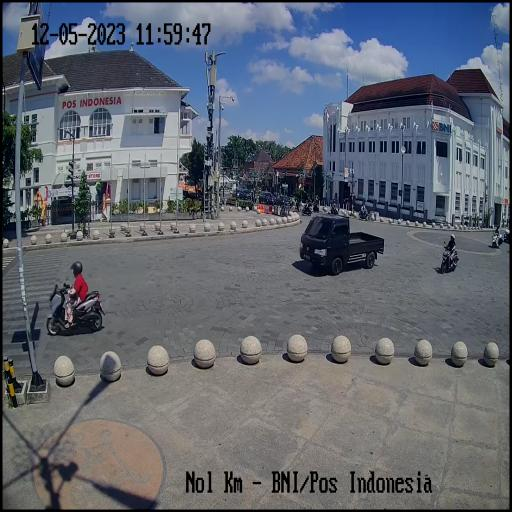mobil: (299, 210, 387, 277)
motor: (44, 279, 108, 339), (442, 239, 460, 276)
